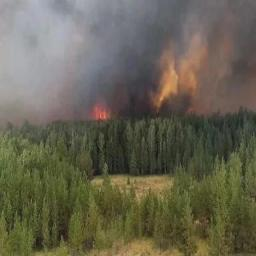Heavy smoke: (5, 0, 250, 118)
